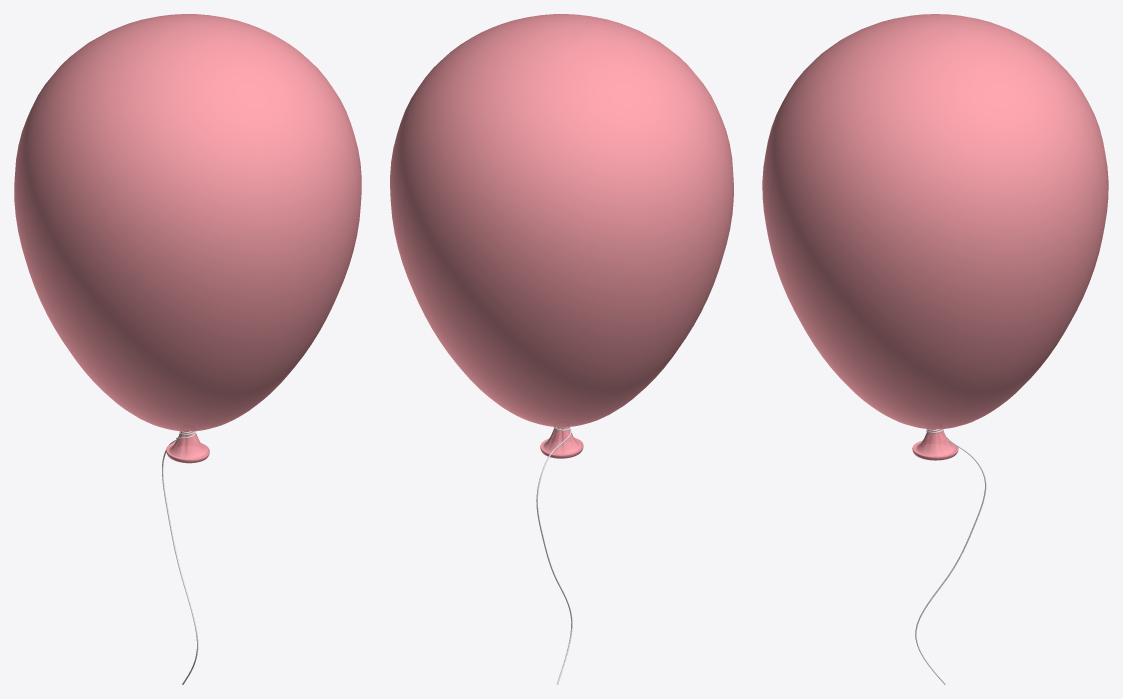
File: uploads_files_2483092_Balloon.gltf
3 views of the same model, side by side, from view 1: azimuth 30°, elevation 25°; view 2: azimuth 150°, elevation 25°; view 3: azimuth 270°, elevation 25° (orthographic).
Visible parts, largest first — view 1: Balloon, String1; view 2: Balloon, String1; view 3: Balloon, String1.
Boxes of the visible parts, x1,y1,x2,y2 form: Balloon: (14,14,361,463); String1: (162,431,198,684); Balloon: (390,14,733,458); String1: (536,427,572,684); Balloon: (762,14,1108,460); String1: (915,429,986,684).
Bounding box in the file's own units: 0.8871 × 1.85 × 0.8871.
